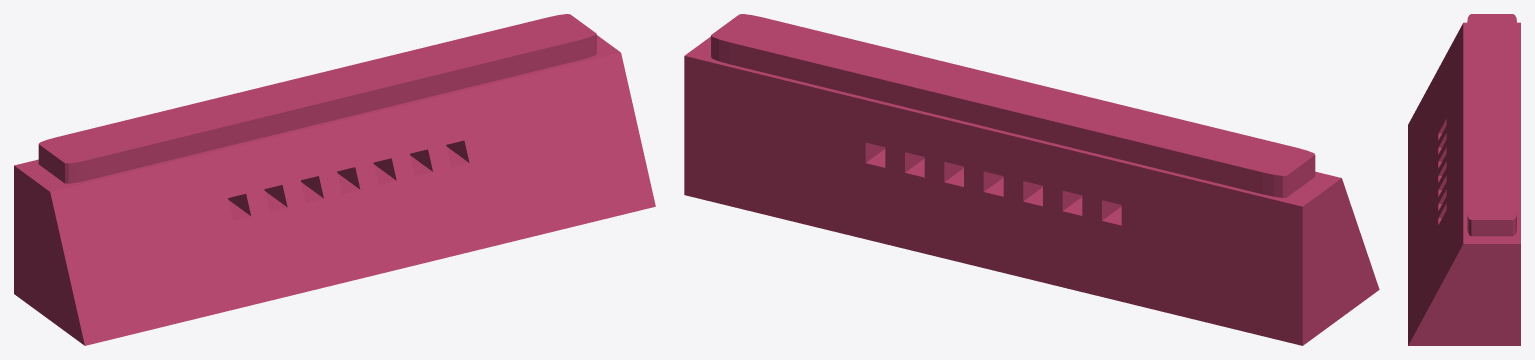
Rendered from shuiba.glb.
The picture shows the model from 3 angles, left to right: view 1: azimuth 30°, elevation 25°; view 2: azimuth 150°, elevation 25°; view 3: azimuth 270°, elevation 25°; orthographic projection. The views are drawn at different scales.
Visible parts, largest first — view 1: Cube; view 2: Cube; view 3: Cube.
Boxes of the visible parts, x1,y1,x2,y2 form: Cube: [14, 14, 655, 345]; Cube: [684, 14, 1379, 345]; Cube: [1408, 14, 1520, 345].
Size of the model in its own units: 18.59 by 4.63 by 4.
